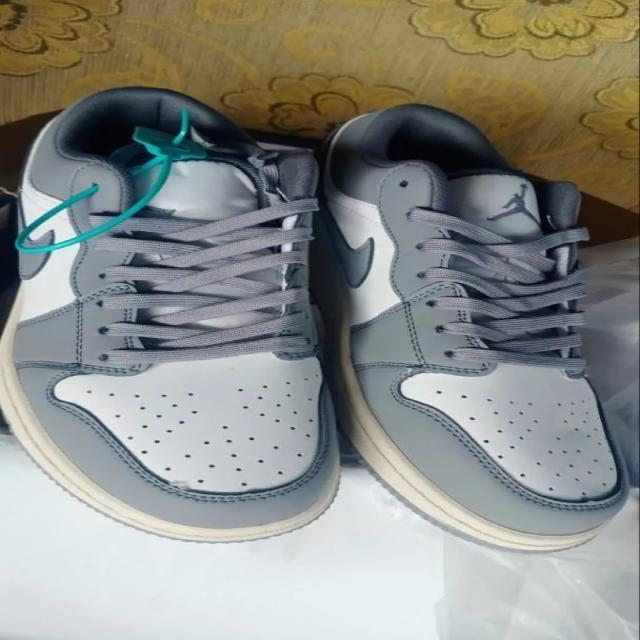nike fake jordan 1: (5, 81, 345, 544), (310, 102, 640, 556)
